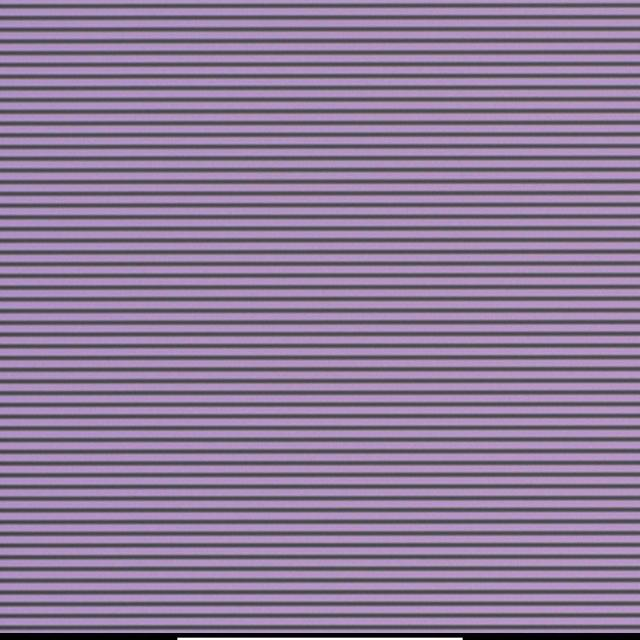nonvisual: (322, 296, 333, 310)
